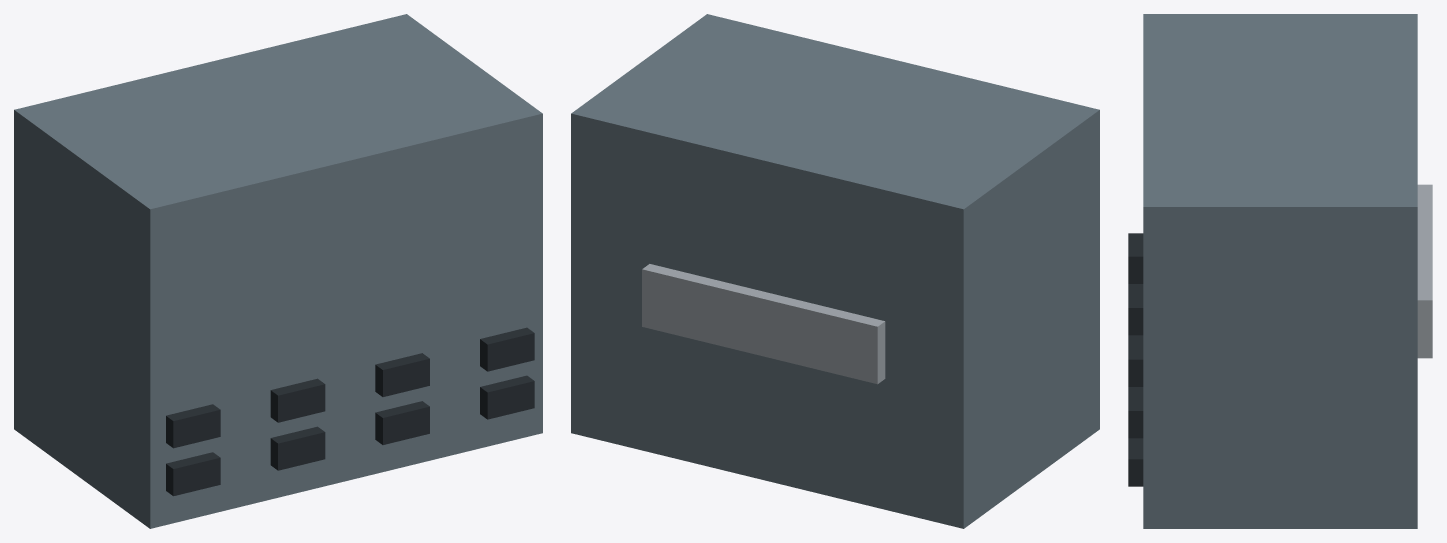
The picture shows the model from 3 angles, left to right: view 1: azimuth 30°, elevation 25°; view 2: azimuth 150°, elevation 25°; view 3: azimuth 270°, elevation 25°; orthographic projection.
Visible parts, largest first — view 1: Body, Connector5, Connector1, Connector3, Connector7, Connector0, Connector2, Connector4, Connector6; view 2: Body, MountClip; view 3: Body, MountClip, Connector4, Connector6, Connector5, Connector7, Connector3.
Part boxes in pixels (box(x1,y1,x2,y2)): Body: box(14, 14, 542, 528); Connector5: box(270, 378, 325, 422); Connector1: box(270, 426, 325, 470); Connector3: box(480, 375, 534, 419); Connector7: box(480, 327, 534, 371); Connector0: box(166, 452, 220, 496); Connector2: box(375, 401, 429, 444); Connector4: box(166, 404, 220, 448); Connector6: box(375, 353, 429, 396); Body: box(571, 14, 1099, 528); MountClip: box(642, 264, 885, 384); Body: box(1143, 14, 1417, 528); MountClip: box(1417, 184, 1432, 358); Connector4: box(1128, 233, 1143, 283); Connector6: box(1128, 336, 1143, 386); Connector5: box(1128, 285, 1143, 335); Connector7: box(1128, 388, 1143, 438); Connector3: box(1128, 438, 1143, 486).
Size of the model in its own units: 0.18 by 0.14 by 0.12.
